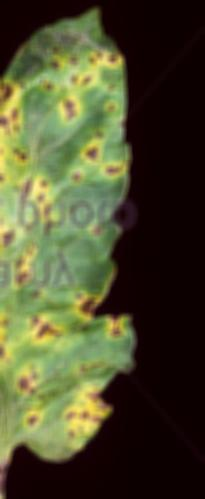Tomato Septoria leaf spot: (0, 8, 144, 404)
